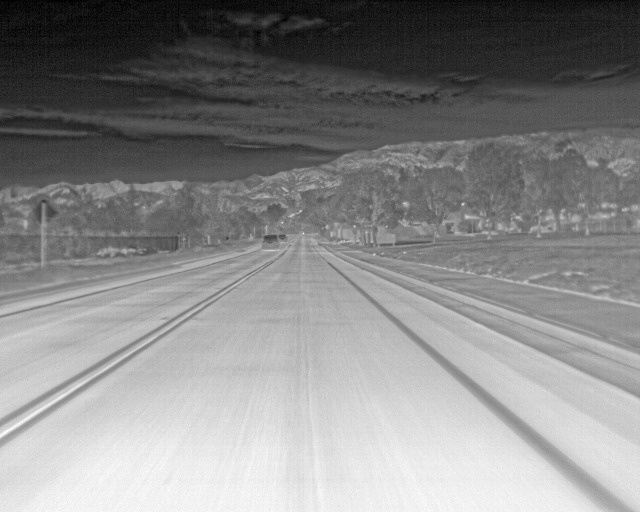vehicle: (261, 232, 285, 252)
